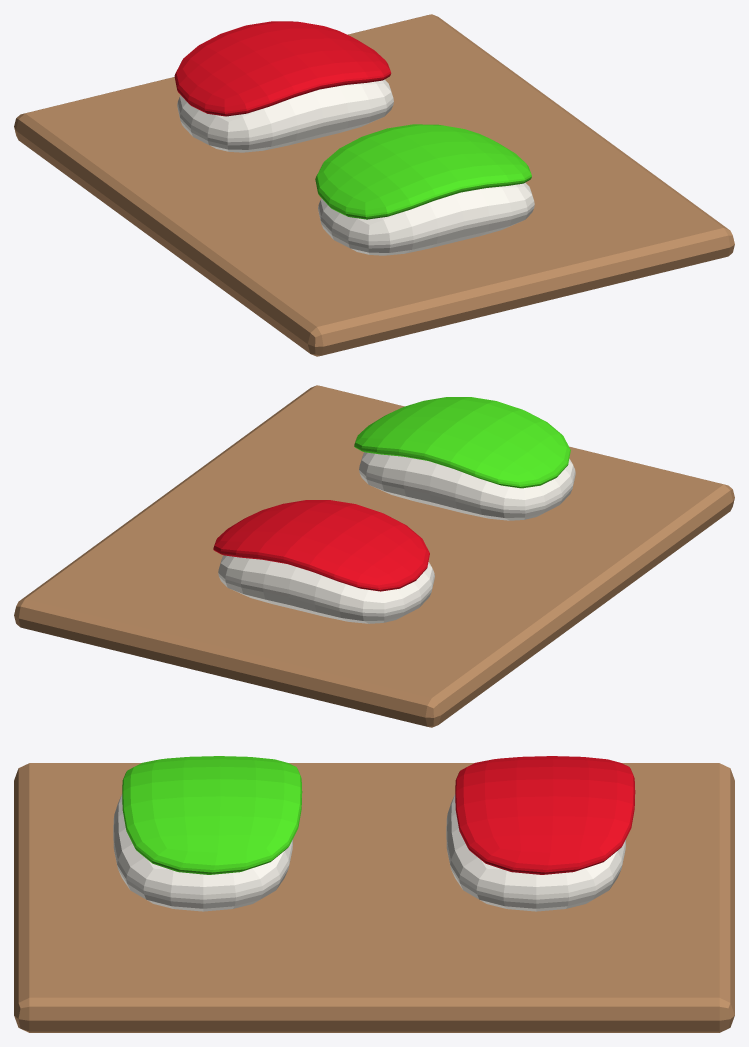
Rendered from sushi.fbx.
3 renders of one model, top to bottom at view 1: azimuth 30°, elevation 25°; view 2: azimuth 150°, elevation 25°; view 3: azimuth 270°, elevation 25°, orthographic. The views are drawn at different scales.
Visible parts, largest first — view 1: Cube, Cube.001, Cube.004; view 2: Cube, Cube.001, Cube.004; view 3: Cube, Cube.001, Cube.004.
Part boxes in pixels (<box>): Cube: <box>14,14,734,356</box>; Cube.001: <box>174,21,393,152</box>; Cube.004: <box>315,124,534,255</box>; Cube: <box>14,385,734,727</box>; Cube.001: <box>213,500,434,623</box>; Cube.004: <box>354,397,575,520</box>; Cube: <box>14,763,734,1032</box>; Cube.001: <box>446,756,635,911</box>; Cube.004: <box>113,756,302,911</box>.
Bounding box in the file's own units: 367 × 87.73 × 455.
